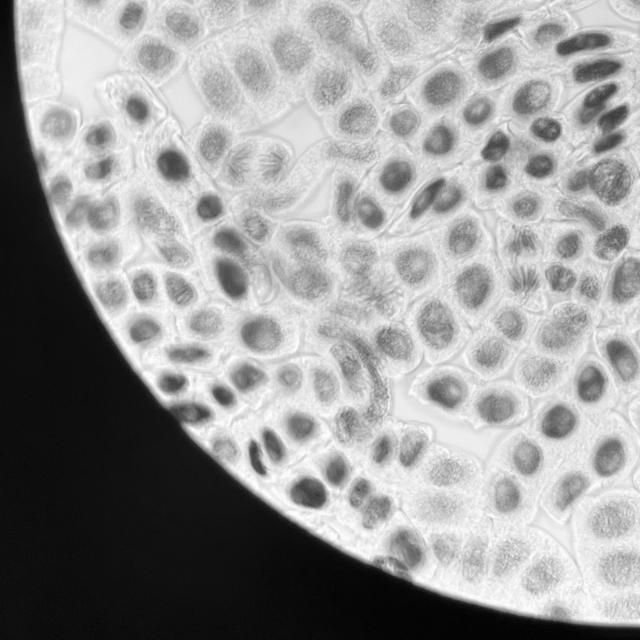anaphase: (494, 219, 552, 308), (215, 130, 296, 193)
interphase: (233, 310, 286, 356), (507, 75, 557, 120), (586, 432, 630, 482), (391, 243, 438, 288), (602, 335, 640, 388), (422, 370, 468, 411), (334, 99, 381, 138), (569, 362, 611, 405), (455, 90, 501, 129), (376, 154, 419, 195), (508, 436, 548, 479), (419, 119, 459, 160), (428, 177, 467, 218), (280, 408, 319, 449), (351, 192, 390, 232), (491, 306, 531, 344), (488, 473, 523, 516), (518, 152, 562, 184), (526, 111, 562, 147), (477, 128, 512, 165), (387, 103, 422, 138), (480, 160, 512, 193), (617, 0, 640, 9)
prophase: (338, 260, 412, 324)
